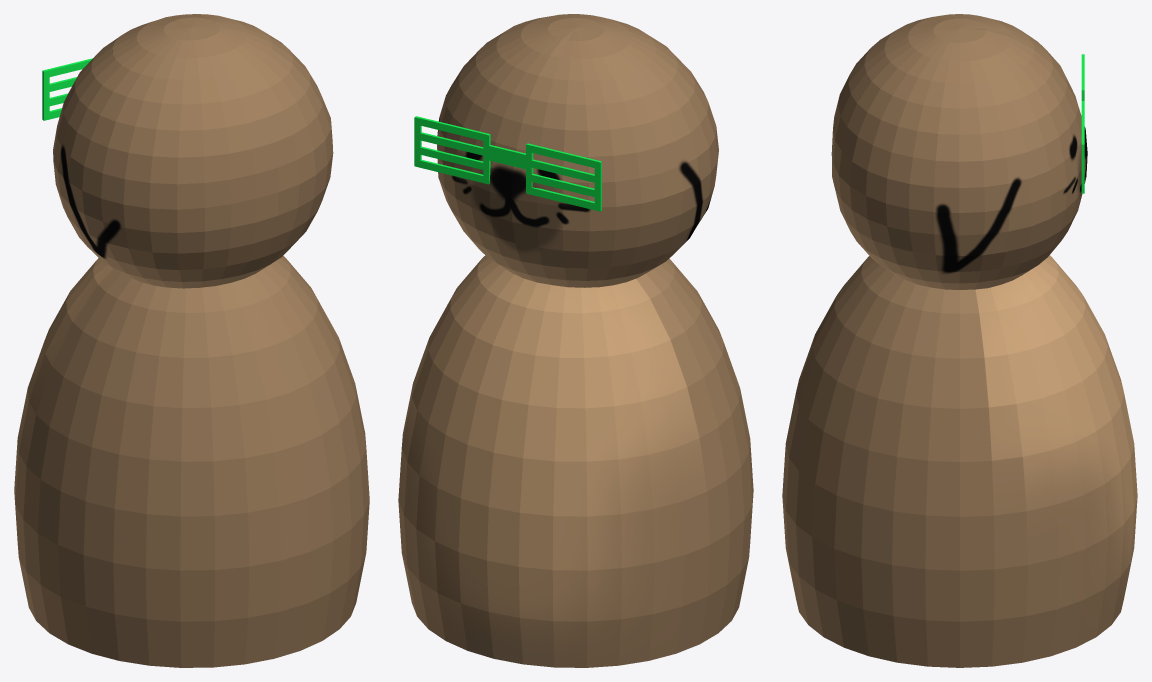
The model's file is Cookie doll.fbx.
3 views of the same model, side by side, from view 1: azimuth 30°, elevation 25°; view 2: azimuth 150°, elevation 25°; view 3: azimuth 270°, elevation 25° (orthographic).
Visible parts, largest first — view 1: Body; view 2: Body; view 3: Body.
Part boxes in pixels (bbox=[...]): Body: bbox=[14, 14, 369, 667]; Body: bbox=[398, 14, 753, 667]; Body: bbox=[782, 14, 1137, 667].
Size of the model in its own units: 200 by 354 by 200.
